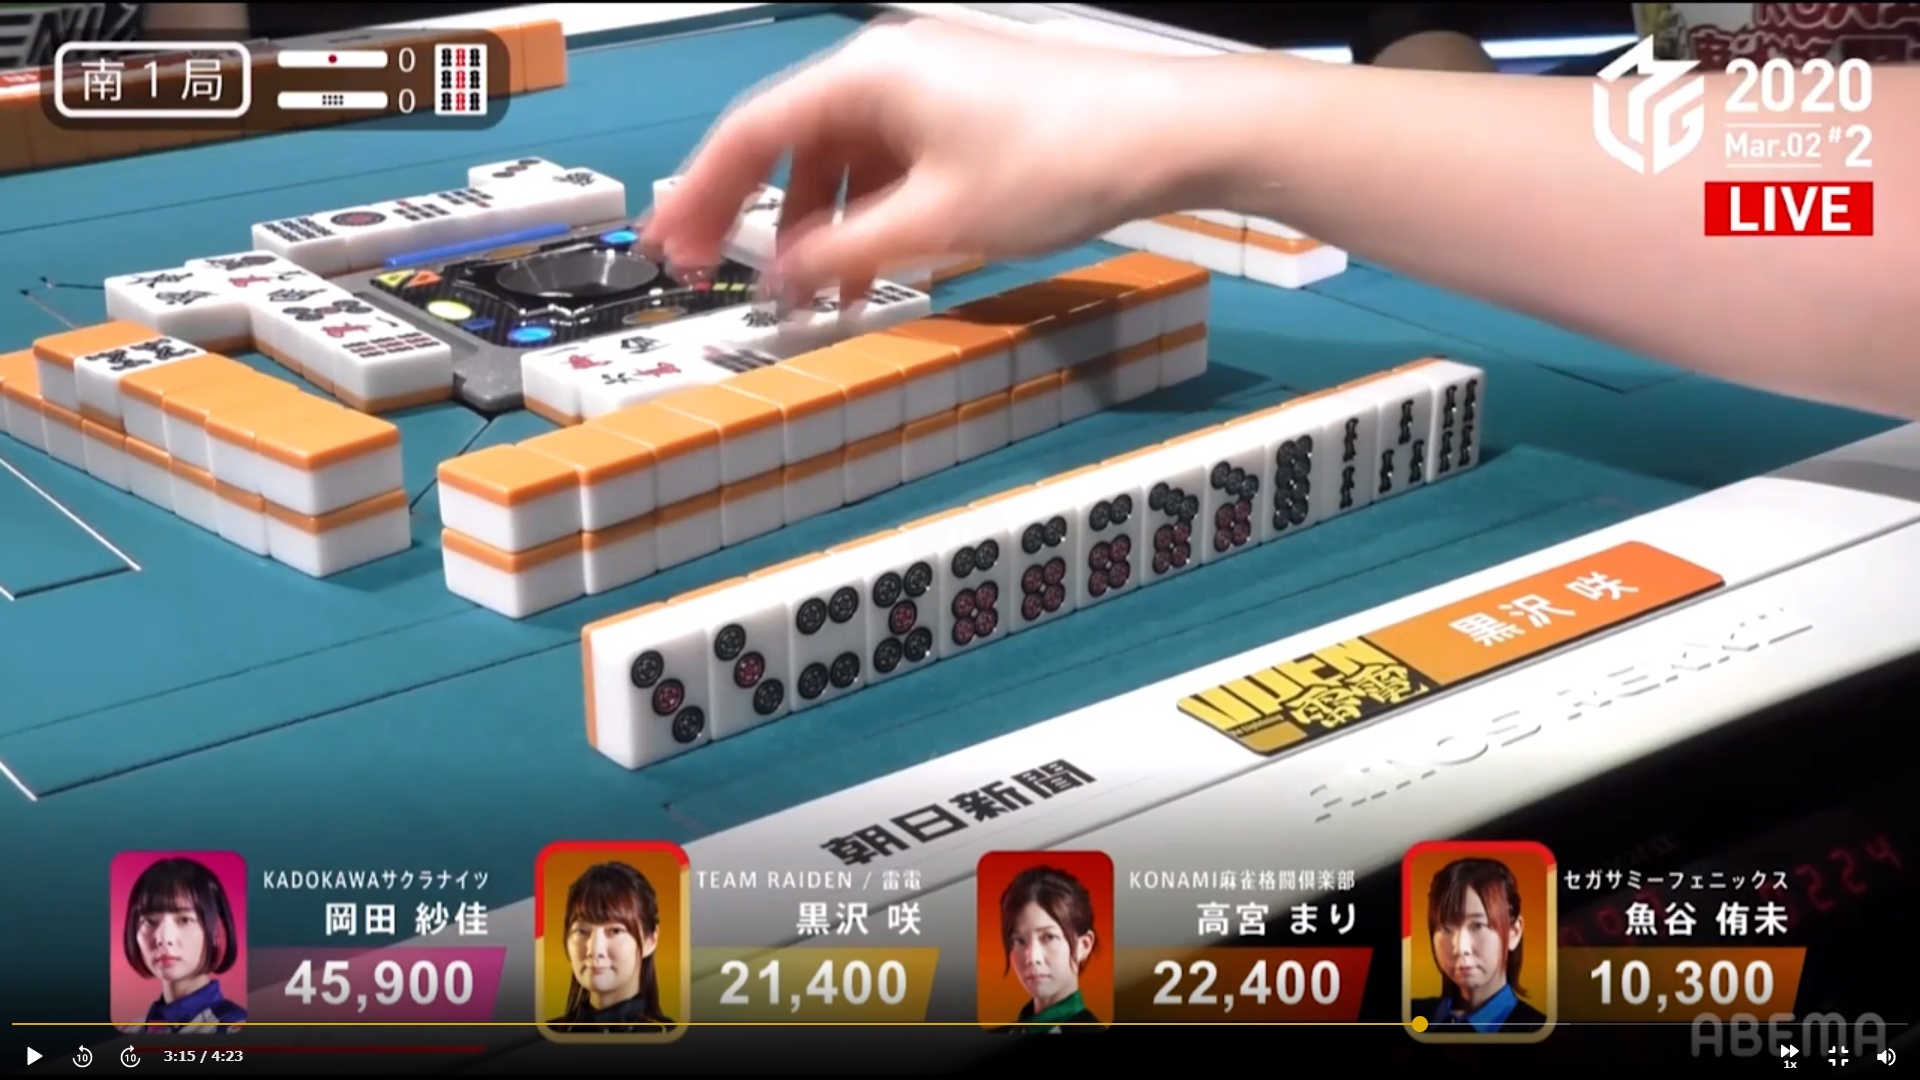2s: (1321, 414, 1367, 517)
3p: (622, 630, 708, 752), (713, 609, 786, 724)
3s: (1373, 393, 1427, 495)
4p: (790, 579, 865, 699)
4s: (1433, 369, 1480, 476)
5p: (865, 553, 935, 676)
6p: (939, 533, 1006, 646), (1009, 510, 1075, 622), (1077, 488, 1135, 603)
7p: (1143, 467, 1203, 575), (1205, 446, 1261, 556)
8p: (1263, 427, 1313, 539)
hand_nan_1: (40, 33, 256, 117)
round_0: (266, 86, 421, 119)
team_raiden: (1167, 633, 1458, 756)
